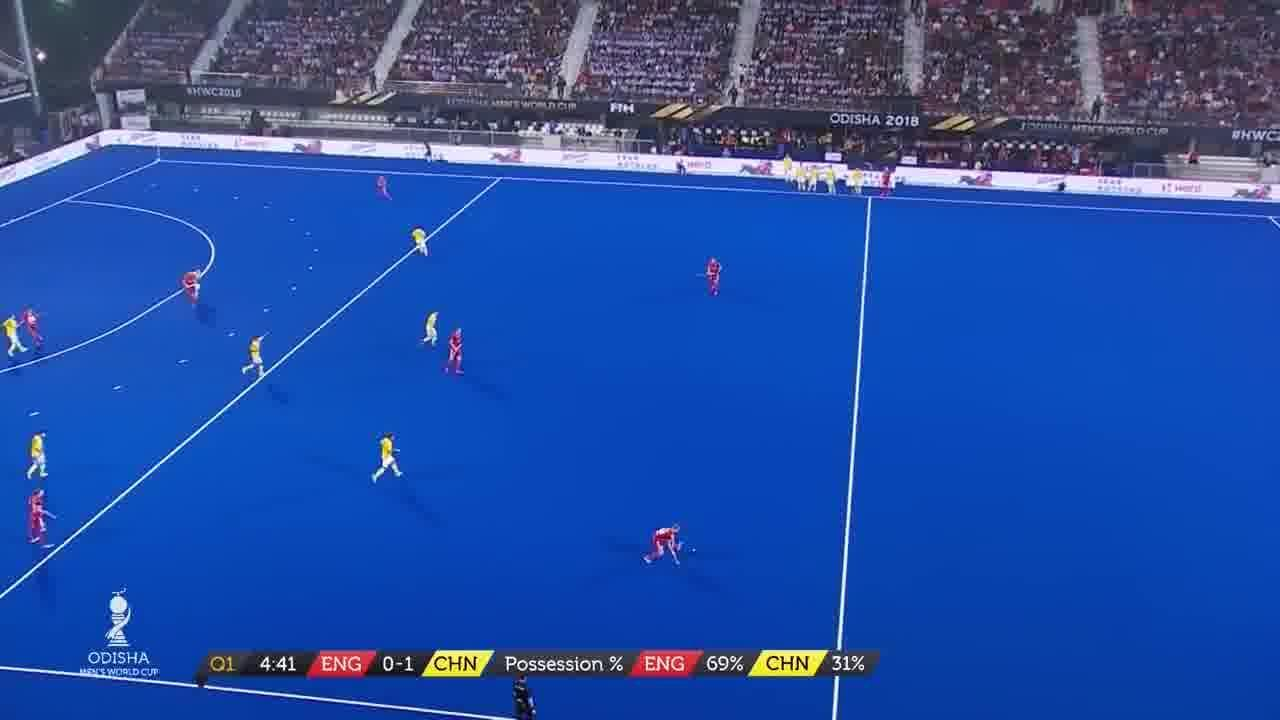ball: (686, 544, 701, 558)
